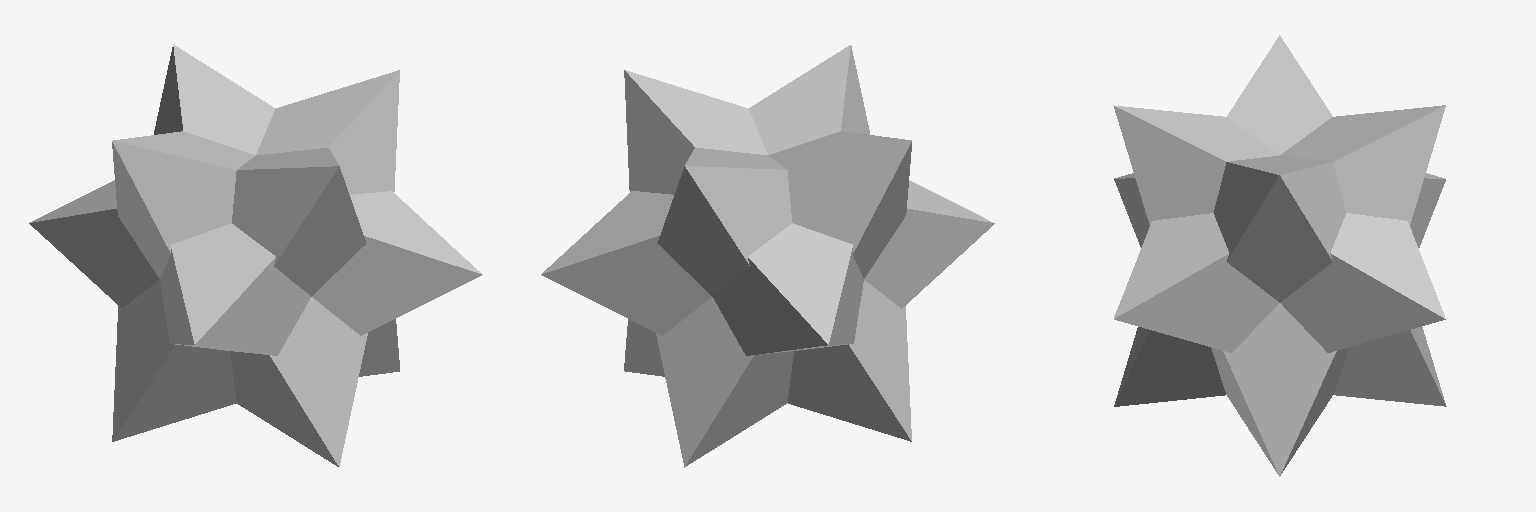
The model's file is tinker.obj.
The picture shows the model from 3 angles: view 1: azimuth 30°, elevation 25°; view 2: azimuth 150°, elevation 25°; view 3: azimuth 270°, elevation 25°; orthographic projection.
Parts seen in each view (by area): view 1: obj_0; view 2: obj_0; view 3: obj_0.
Boxes of the visible parts, <box> form: obj_0: <box>29,44,482,466</box>; obj_0: <box>541,45,994,467</box>; obj_0: <box>1113,35,1446,476</box>.
Size of the model in its own units: 42.48 by 42.48 by 42.48.